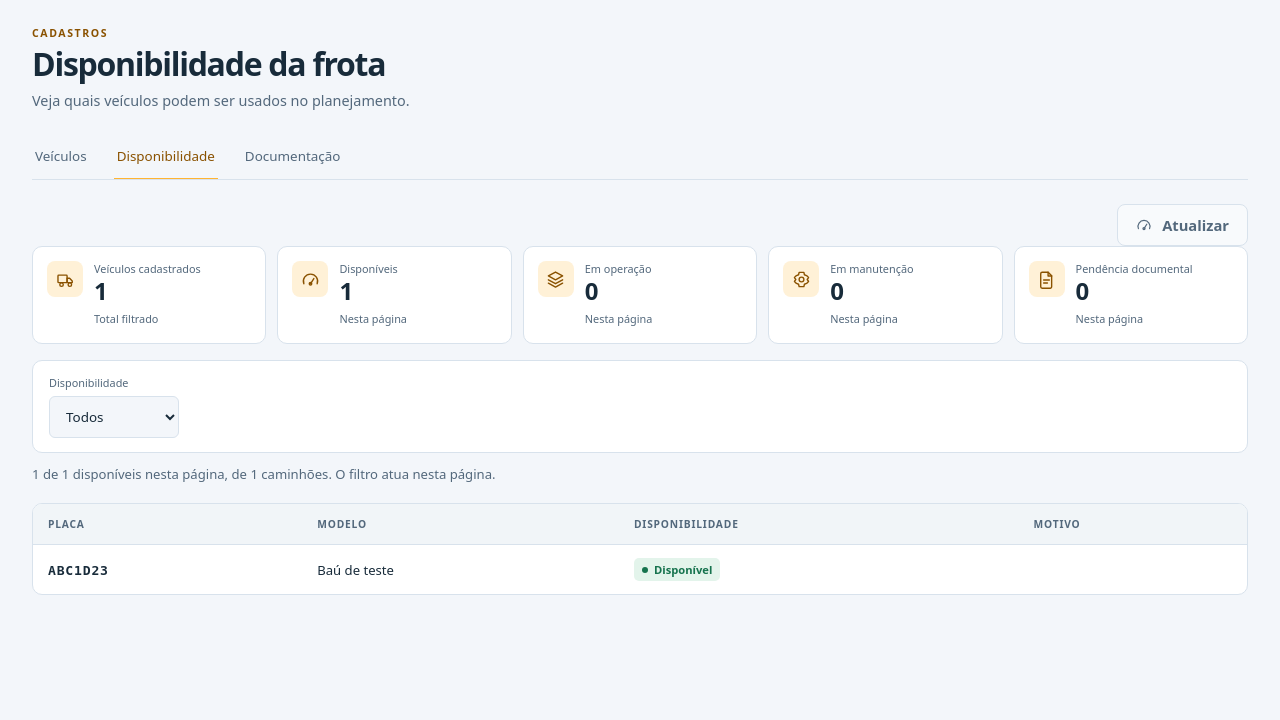
it: Caminhões e frota › acesso direto abre disponibilidade e mantém o filtro baseado no backend
The width and height of the screenshot is (1280, 720).
Expected: the text "Disponível" is shown, 654,562 -> 712,577
Select "Indisponíveis" in the dropdown named "Filtrar por disponibilidade" at [114, 417], box 49,396 -> 179,438
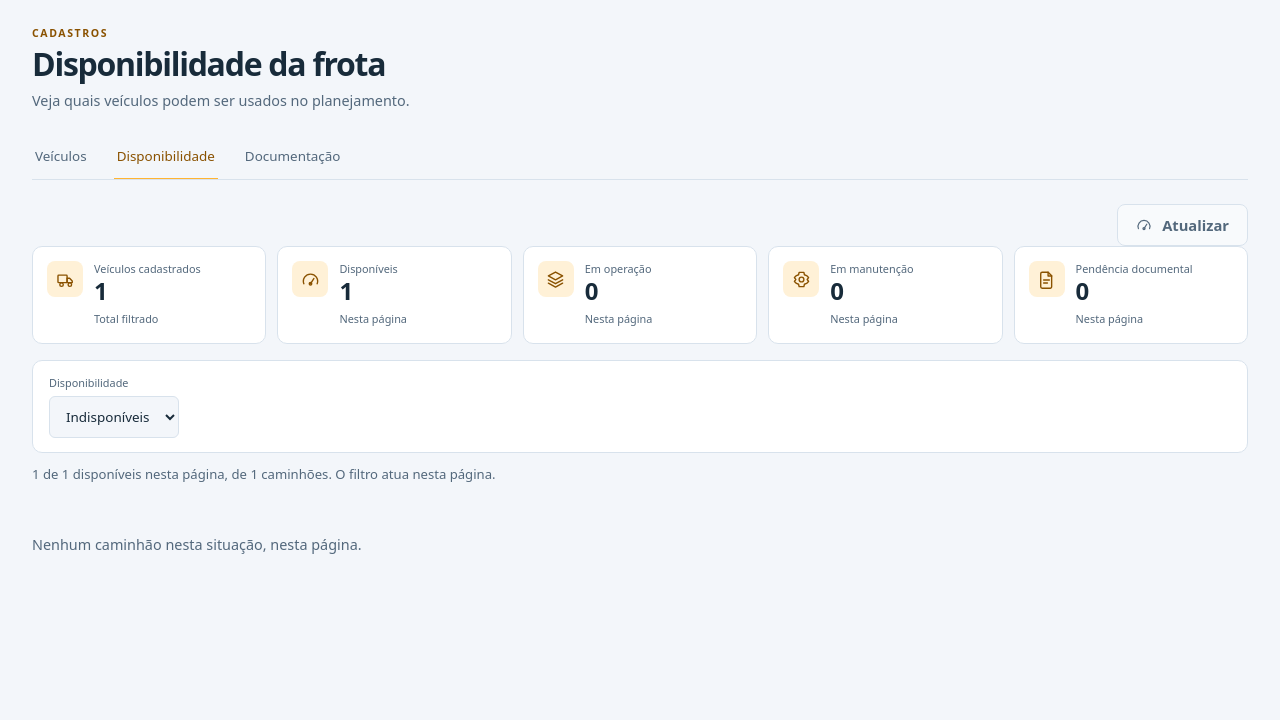
Expected: the text "Nenhum caminhão nesta situação, nesta página." is shown, 32,535 -> 362,554
